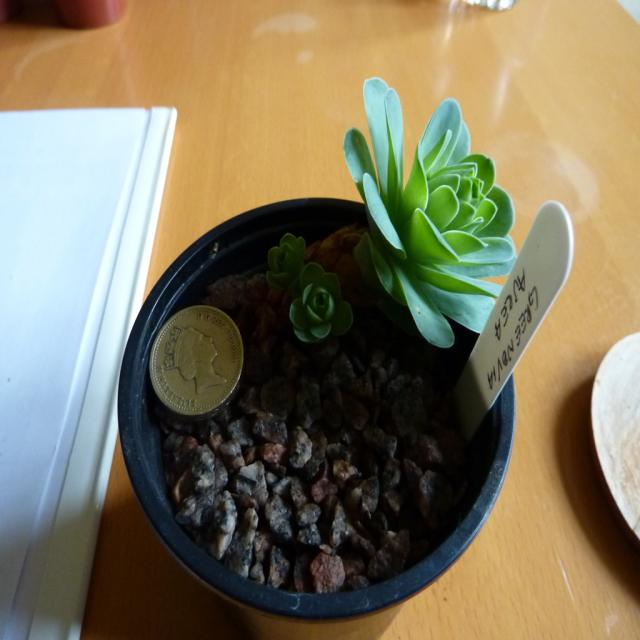Coin: (150, 305, 246, 423)
